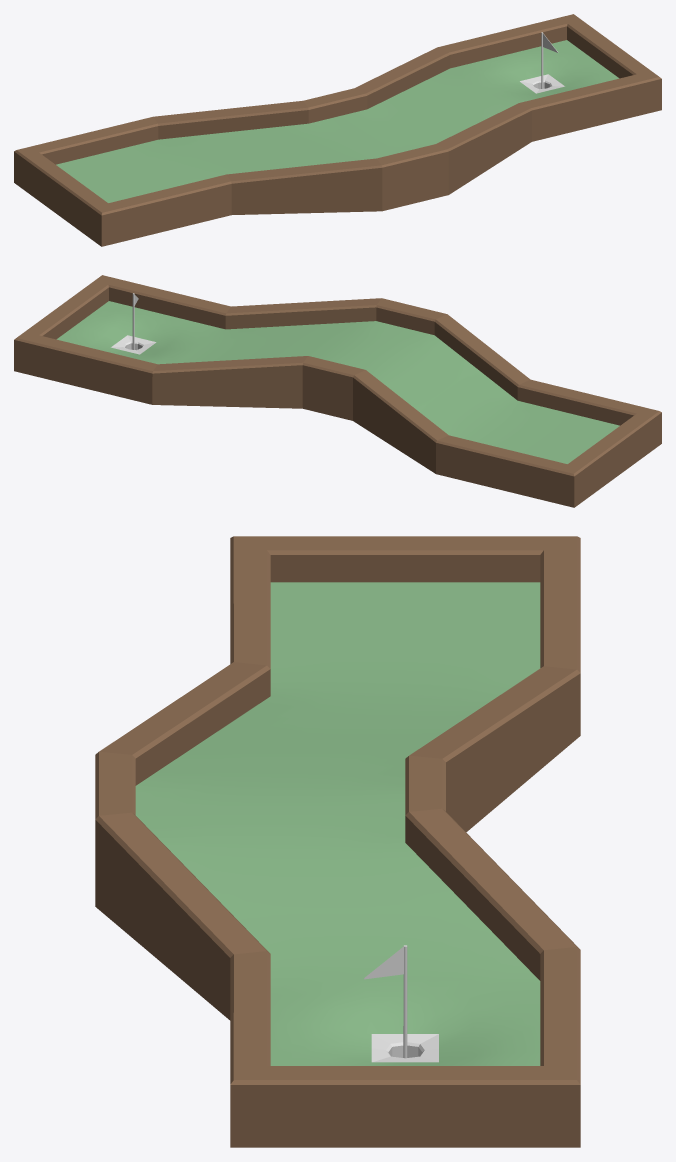
File: GolfCourse1.fbx
3 renders of one model, top to bottom at view 1: azimuth 30°, elevation 25°; view 2: azimuth 150°, elevation 25°; view 3: azimuth 270°, elevation 25°, orthographic. The views are drawn at different scales.
Visible parts, largest first — view 1: BoundWalls, GrassPlane, Cup; view 2: BoundWalls, GrassPlane, Cup; view 3: GrassPlane, BoundWalls, Cup.
Boxes of the visible parts, bbox=[...] form: BoundWalls: bbox=[14, 14, 661, 246]; GrassPlane: bbox=[56, 40, 619, 202]; Cup: bbox=[520, 32, 564, 93]; BoundWalls: bbox=[14, 275, 661, 507]; GrassPlane: bbox=[56, 301, 619, 463]; Cup: bbox=[111, 293, 156, 354]; GrassPlane: bbox=[135, 582, 540, 1065]; BoundWalls: bbox=[95, 536, 580, 1147]; Cup: bbox=[364, 945, 438, 1062].
Size of the model in its own units: 960 by 107 by 360.
